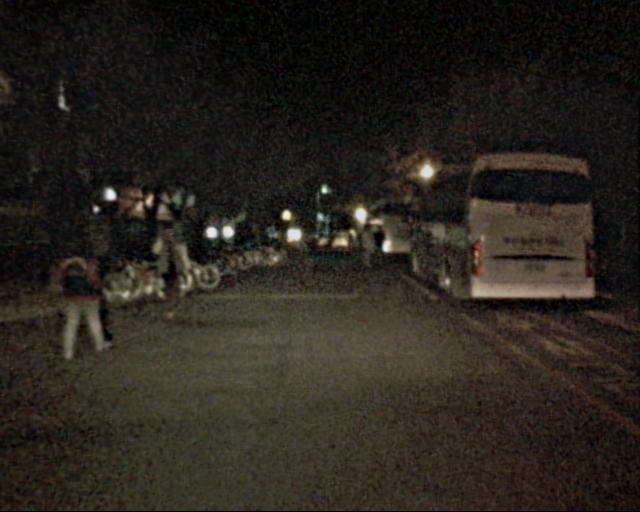person: (54, 224, 116, 362), (151, 220, 191, 312), (356, 228, 388, 268)
